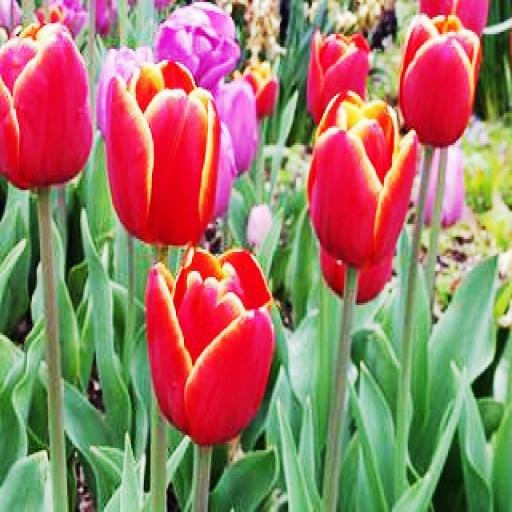tulip: (141, 247, 278, 444), (109, 49, 227, 250), (304, 88, 421, 264), (400, 11, 477, 143), (307, 28, 368, 119)
